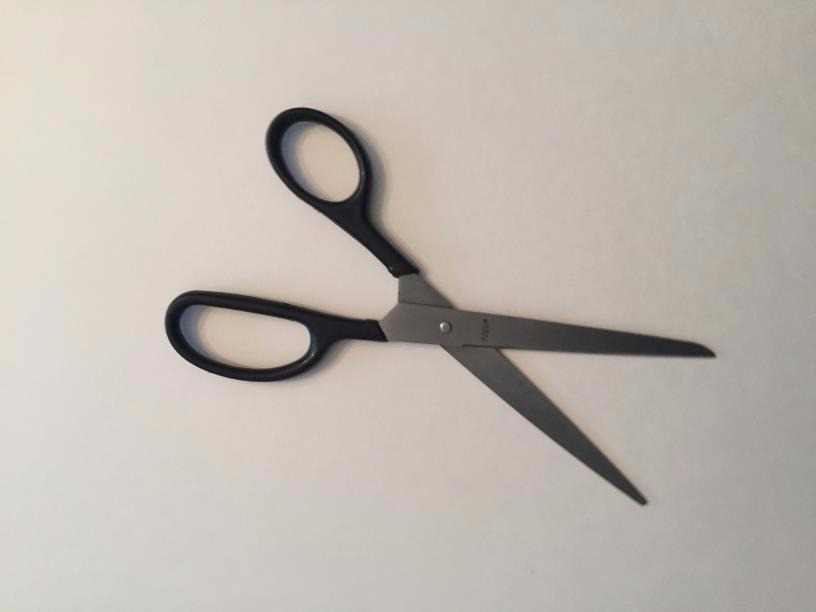scissor: (141, 78, 738, 534)
